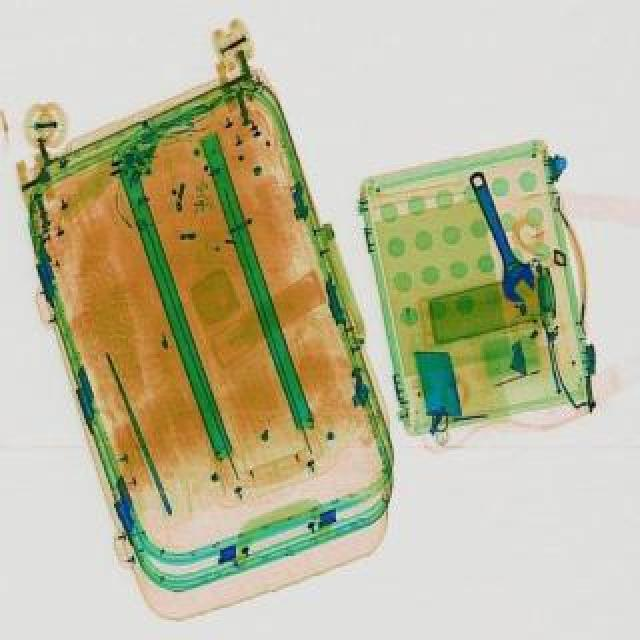scissors: (462, 168, 546, 310)
